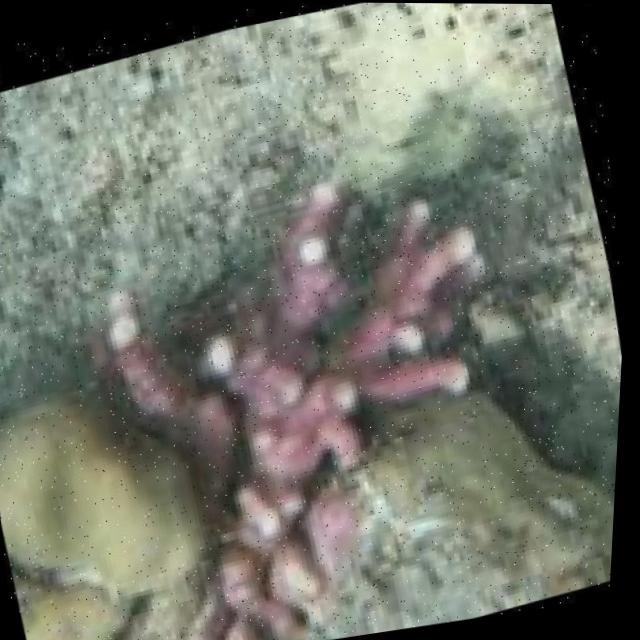Healthy Coral: (67, 129, 582, 640), (0, 340, 271, 637)
